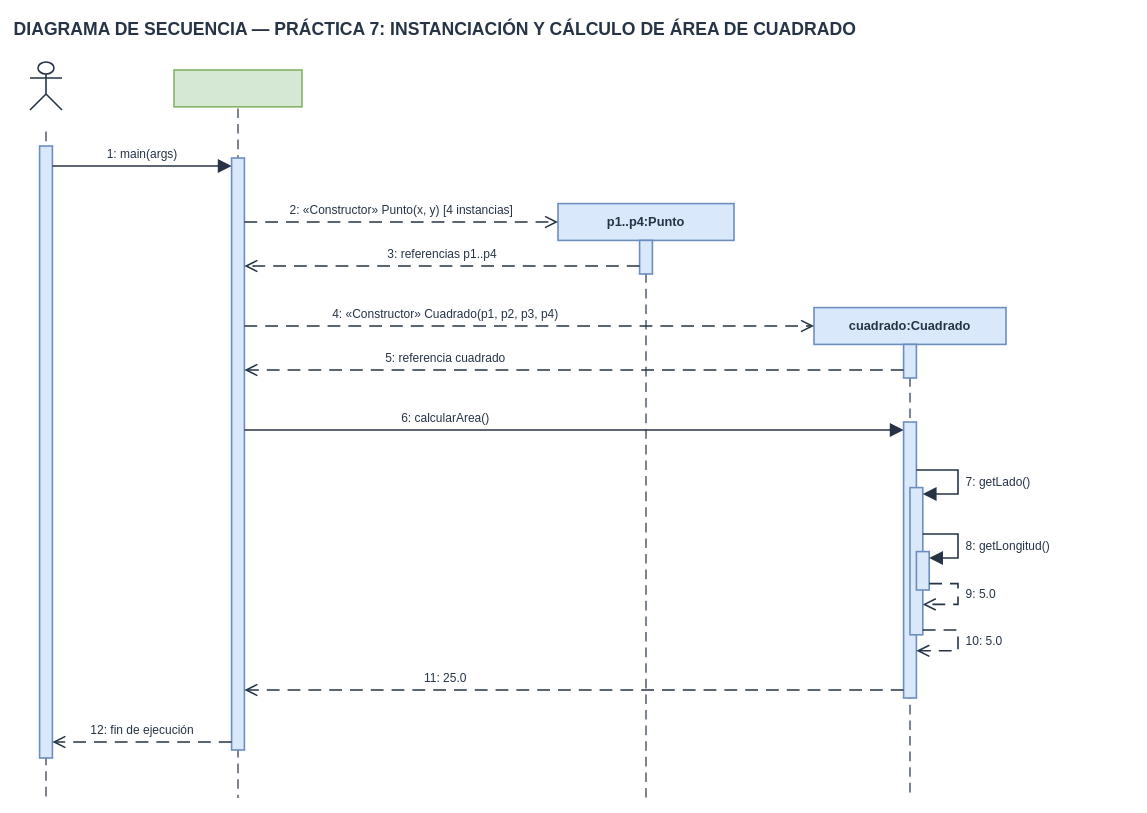
The diagram is 1147 pixels wide and 813 high, and some of its shapes have lost their labels. The centre of each missing label's shape, as x and y in pixels:
Main: the point at 237,88
Usuario: the point at 45,85
